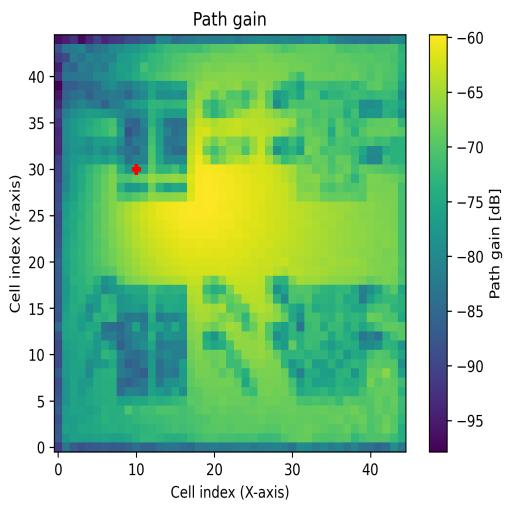Concrete: (296, 81, 368, 202)
Glass: (117, 80, 187, 202)
Metal: (296, 283, 367, 396)
Wood: (118, 283, 186, 397)
